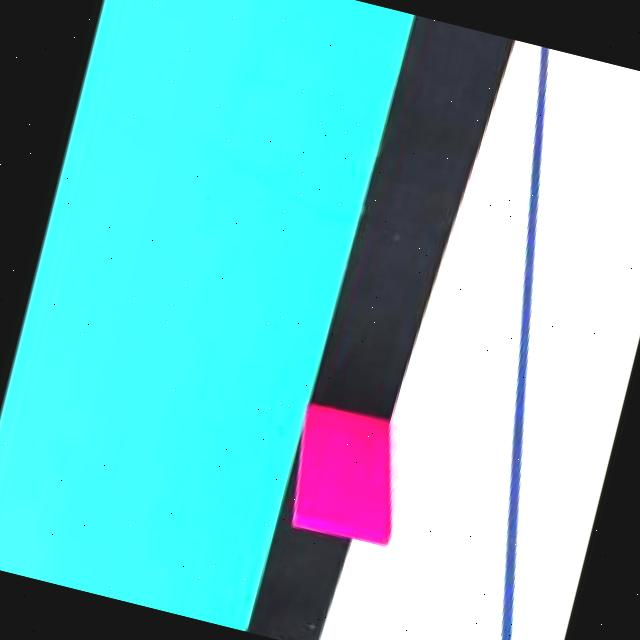xparking: (297, 411, 418, 540)
